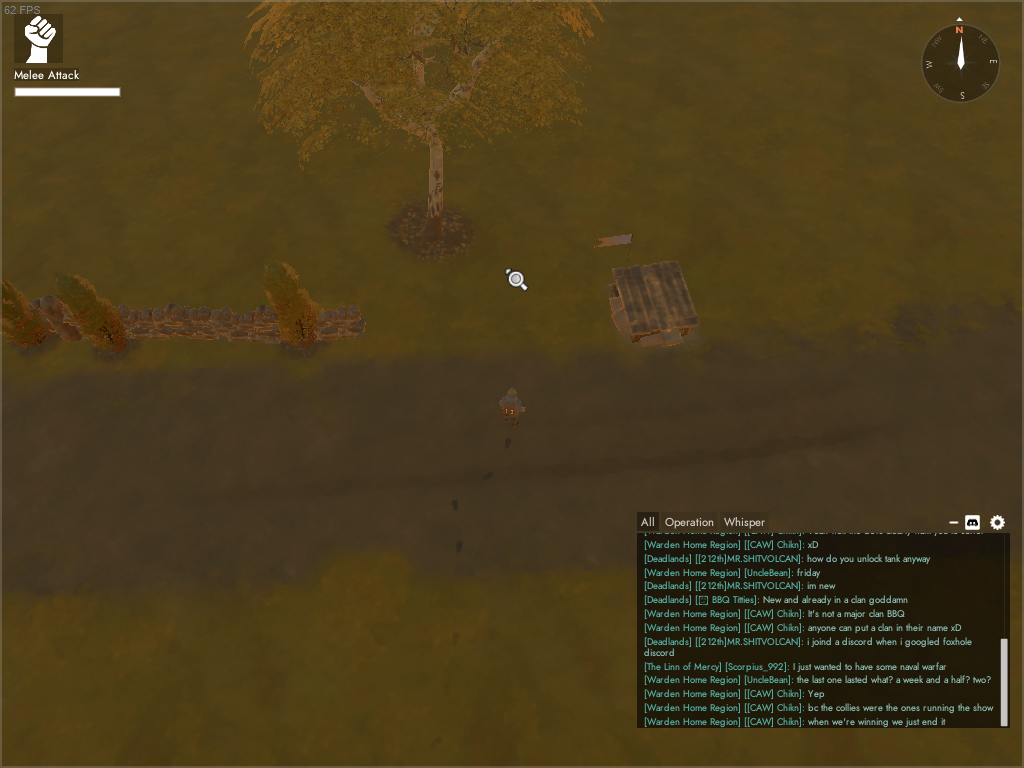pillbox: (592, 227, 701, 351)
player: (495, 383, 531, 431)
